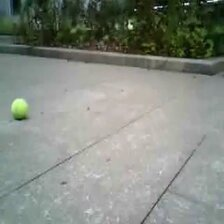tennis: (11, 98, 29, 119)
